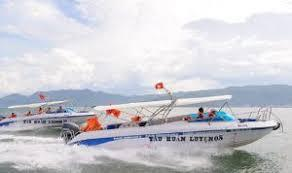Ship: (66, 95, 287, 156), (1, 88, 98, 133)
